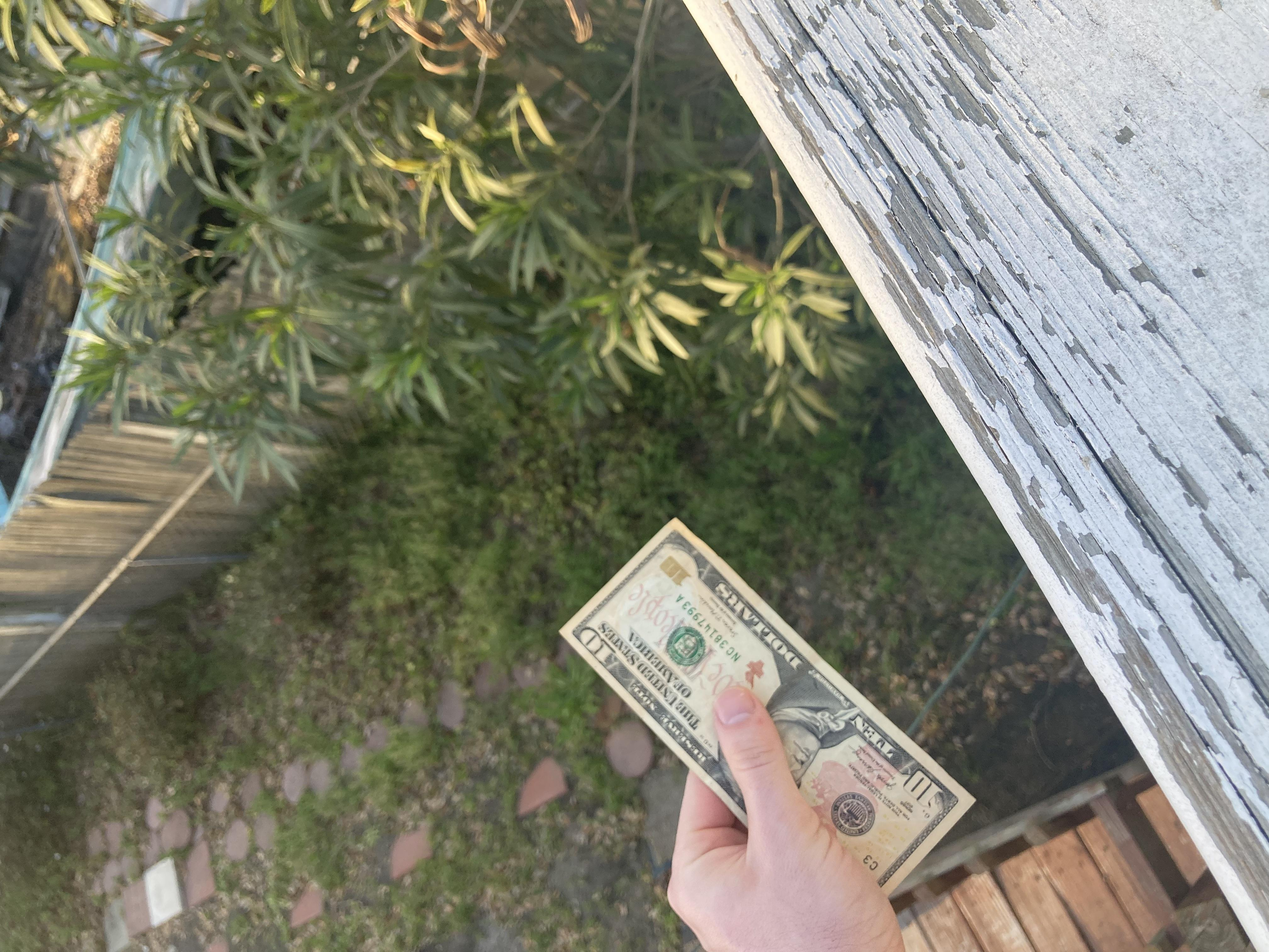ten-front: (32, 420, 581, 732)
